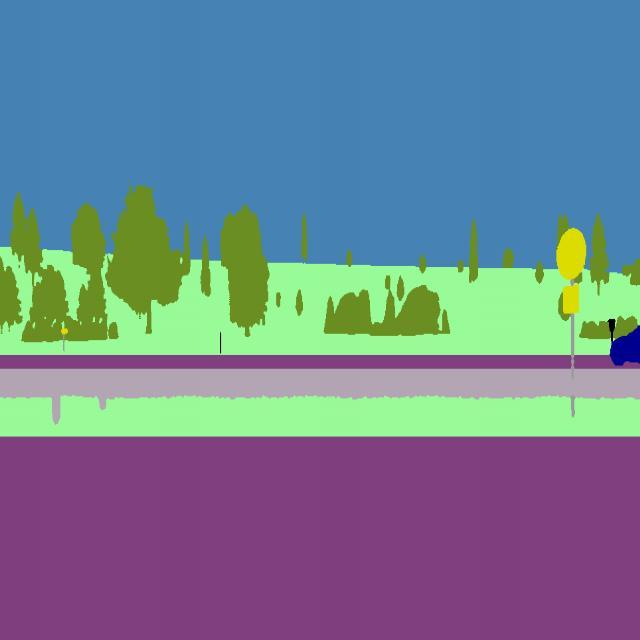safe: (606, 308, 638, 370)
